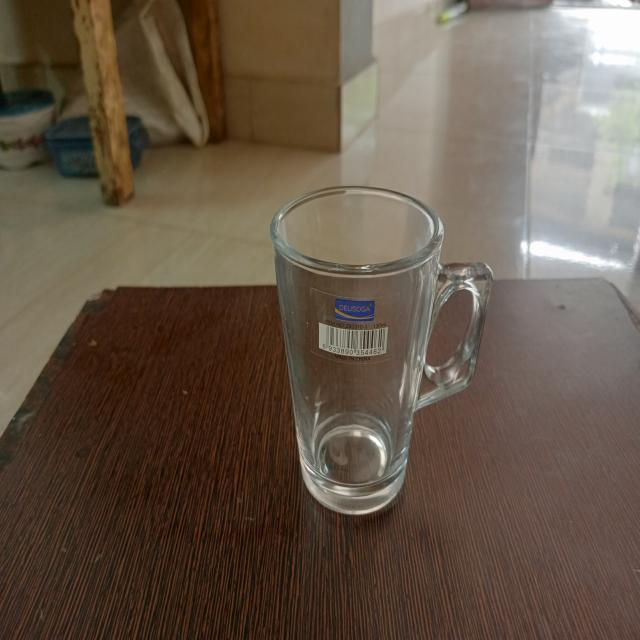glass-VX4N: (271, 176, 496, 523)
